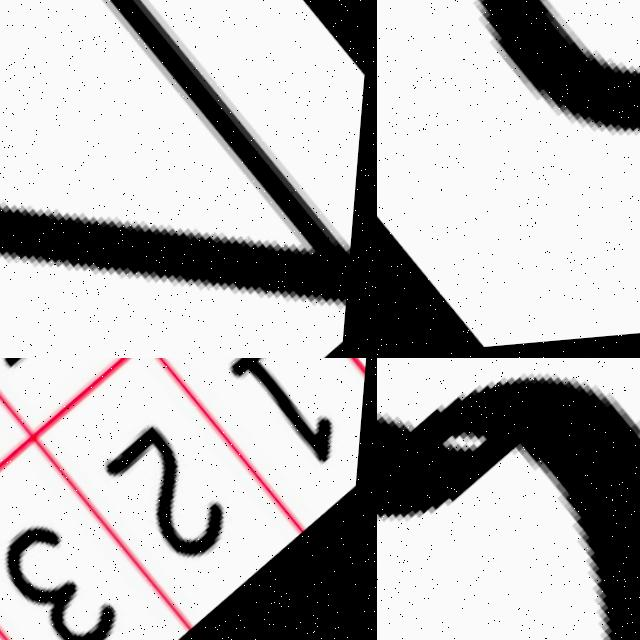0: (326, 358, 377, 399)
1: (219, 358, 371, 494)
2: (99, 417, 260, 588)
3: (0, 509, 150, 640)
5: (377, 0, 640, 358)
N: (0, 0, 377, 358)
Q: (377, 358, 640, 640)
